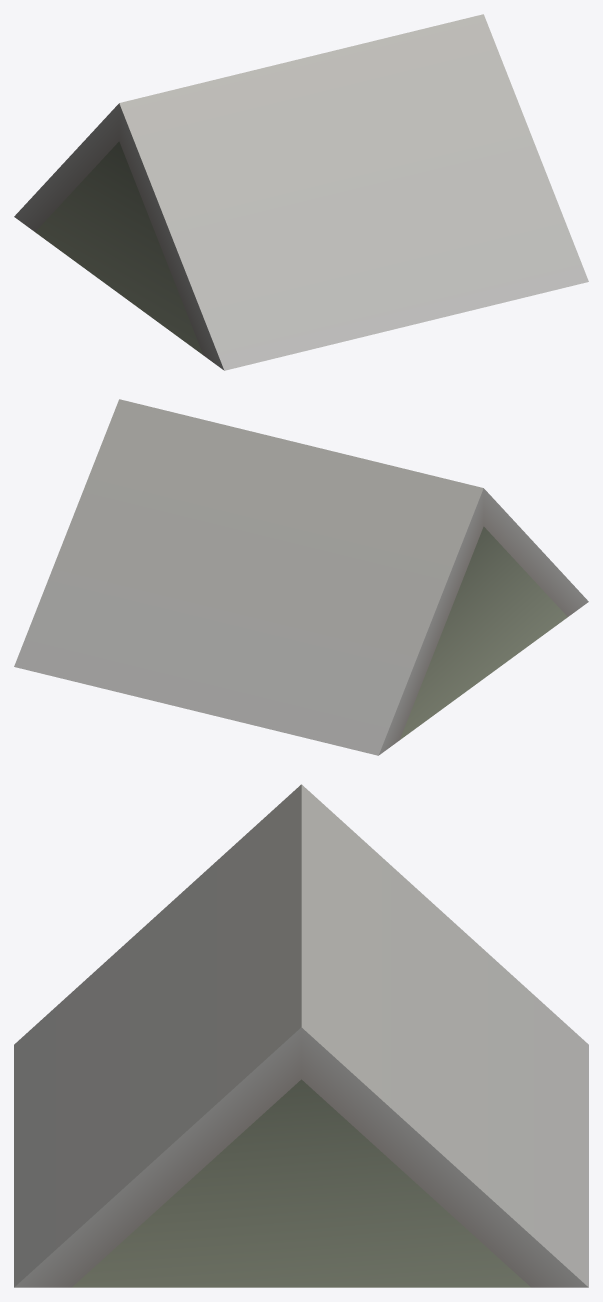
The model's file is wall-b-roof.glb.
The picture shows the model from 3 angles, top to bottom: view 1: azimuth 30°, elevation 25°; view 2: azimuth 150°, elevation 25°; view 3: azimuth 270°, elevation 25°; orthographic projection. The views are drawn at different scales.
Parts seen in each view (by area): view 1: wall-b-roof; view 2: wall-b-roof; view 3: wall-b-roof.
Boxes of the visible parts, box(x1,y1,x2,y2) form: wall-b-roof: box(14, 14, 588, 370); wall-b-roof: box(14, 399, 588, 755); wall-b-roof: box(14, 784, 588, 1287).
Bounding box in the file's own units: 1 × 0.5 × 1.
